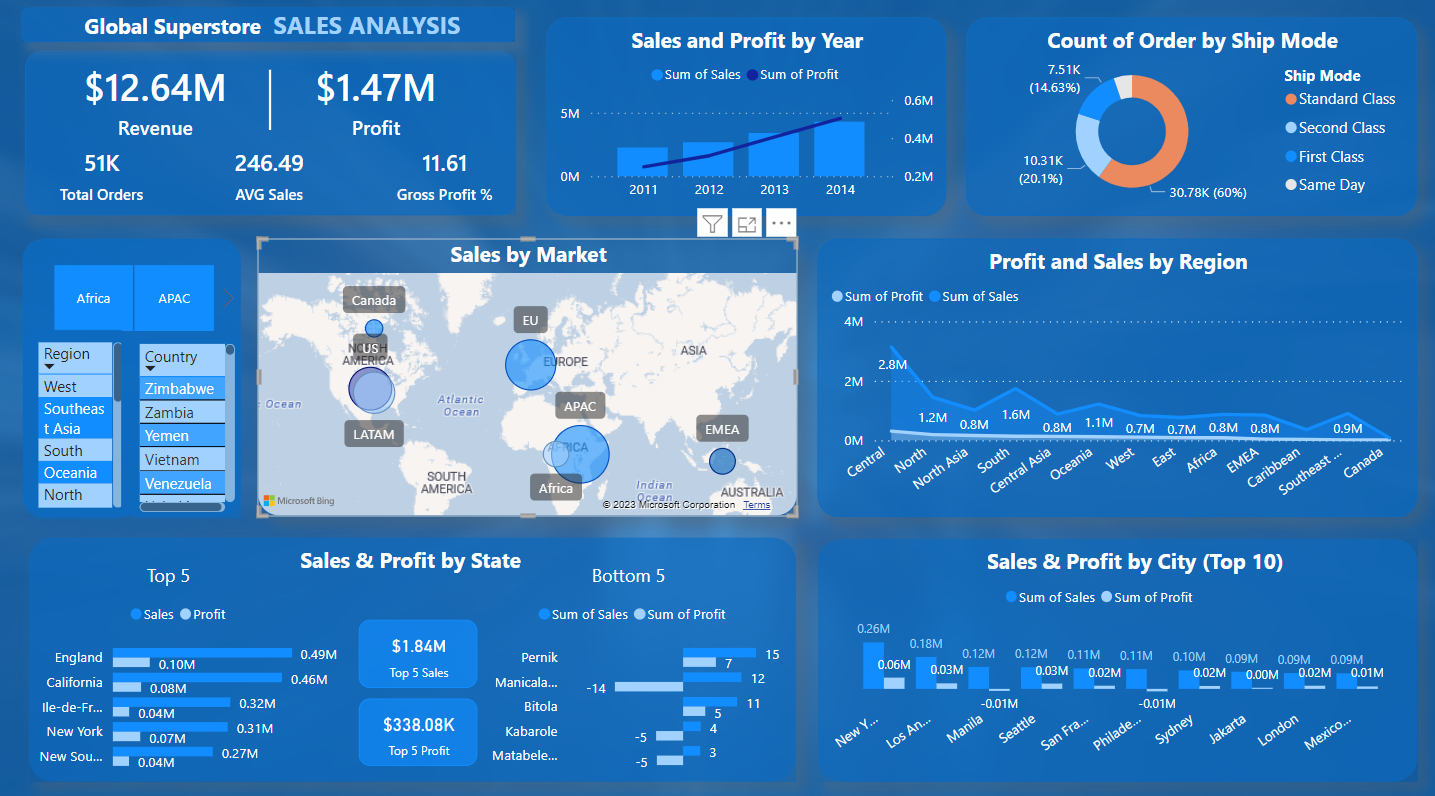

What the dashboard file says about the page in this screenshot:
{"tool":"powerbi","page":{"name":"Page 1","canvas":[1280,720],"ordinal":0},"visuals":[{"type":"shape","box":[0,0,1279.3,720.4],"z":0},{"type":"shape","box":[22.1,53.4,436.9,146.4],"z":1000},{"type":"shape","title":"Shape","box":[26,486.3,683.6,217.8],"z":2000},{"type":"shape","box":[19.8,220.8,194,247.5],"z":3000},{"type":"card","title":"Revenue","fields":{"Values":["Global Superstore - Orders.Total sales"]},"box":[37.2,50,203.3,93],"z":4000},{"type":"card","fields":{"Values":["Global Superstore - Orders.sum of profit"]},"box":[231.2,50,206.8,93],"z":5000},{"type":"card","fields":{"Values":["Global Superstore - Orders.Total Orders"]},"box":[22.1,126.7,135.9,72],"z":6000},{"type":"shape","box":[727.4,487.7,534.2,216.4],"z":7000},{"type":"card","fields":{"Values":["Global Superstore - Orders.Gross Profit %"]},"box":[332.3,126.7,126.7,72],"z":8000},{"type":"card","fields":{"Values":["Global Superstore - Orders.AVG Sales"]},"box":[170.8,126.7,138.3,72],"z":9000},{"type":"lineStackedColumnComboChart","title":"Sales and Profit by Year","fields":{"Category":["Global Superstore - Orders.Order Date.Variation.Date Hierarchy.Year"],"Y2":["Sum(Global Superstore - Orders.Profit)"],"Y":["Sum(Global Superstore - Orders.Sales)"]},"box":[486.3,23.3,356.2,176.7],"z":10000},{"type":"donutChart","title":"Count of Order by Ship Mode","fields":{"Category":["Global Superstore - Orders.Ship Mode"],"Y":["CountNonNull(Global Superstore - Orders.Order ID)"]},"box":[860.3,23.3,401.4,176.7],"z":11000},{"type":"slicer","fields":{"Values":["Global Superstore - Orders.Market"]},"box":[21.8,236.8,192,72.4],"z":12000},{"type":"stackedAreaChart","title":"Profit and Sales by Region","fields":{"Category":["Global Superstore - Orders.Region"],"Y":["Sum(Global Superstore - Orders.Profit)","Sum(Global Superstore - Orders.Sales)"]},"box":[727.4,220.5,534.2,247.9],"z":13000},{"type":"map","title":"Sales by Market","fields":{"Size":["Sum(Global Superstore - Orders.Sales)"],"Category":["Global Superstore - Orders.Market"]},"box":[228.9,220.8,481,247.5],"z":14000},{"type":"tableEx","fields":{"Values":["Global Superstore - Orders.Country"]},"box":[118.4,309.2,96.6,159.8],"z":15000},{"type":"tableEx","fields":{"Values":["Global Superstore - Orders.Region"]},"box":[21.8,301.1,96.6,167.8],"z":16000},{"type":"clusteredBarChart","fields":{"Category":["Global Superstore - Orders.State"],"Y":["Sum(Global Superstore - Orders.Sales)","Sum(Global Superstore - Orders.Profit)"]},"box":[16.1,535.6,289.7,169],"z":17000},{"type":"clusteredBarChart","fields":{"Y":["Sum(Global Superstore - Orders.Sales)","Sum(Global Superstore - Orders.Profit)"],"Category":["Global Superstore - Orders.State"]},"box":[419.2,535.6,290.4,168.5],"z":18000},{"type":"clusteredColumnChart","fields":{"Category":["Global Superstore - Orders.City"],"Y":["Sum(Global Superstore - Orders.Sales)","Sum(Global Superstore - Orders.Profit)"]},"box":[709.6,519.2,541.1,169.9],"z":19000},{"type":"textbox","box":[0,504.3,299.8,31.4],"z":20000},{"type":"textbox","box":[409.6,504.1,300,31.5],"z":21000},{"type":"textbox","box":[859.8,489.2,300.9,46.5],"z":22000},{"type":"shape","box":[224.3,69.7,31.4,53.4],"z":23000},{"type":"card","fields":{"Values":["Global Superstore - Orders.Top 5 Sales"]},"box":[319.5,559.8,105.7,60.9],"z":24000},{"type":"card","fields":{"Values":["Global Superstore - Orders.Top 5 Profit"]},"box":[319.5,629.9,105.7,59.8],"z":25000},{"type":"shape","box":[19.2,14.4,439.1,31.2],"z":25500},{"type":"textbox","box":[218.5,488.9,300,46.9],"z":26000},{"type":"textbox","box":[69.7,10.5,384.6,40.7],"z":27000}]}

Visuals, with their boxes in screenshot pixels (x1, y1, x2, y2), scaled from the page's 1280x720 canvas onto the 1435x796 screenshot:
shape: <region>0, 0, 1434, 795</region>
shape: <region>25, 59, 515, 221</region>
"Shape" shape: <region>29, 538, 796, 778</region>
shape: <region>22, 244, 240, 518</region>
"Revenue" card: <region>42, 55, 270, 158</region>
card - Global Superstore - Orders.sum of profit: <region>259, 55, 491, 158</region>
card - Global Superstore - Orders.Total Orders: <region>25, 140, 177, 220</region>
shape: <region>815, 539, 1414, 778</region>
card - Global Superstore - Orders.Gross Profit %: <region>373, 140, 515, 220</region>
card - Global Superstore - Orders.AVG Sales: <region>191, 140, 347, 220</region>
"Sales and Profit by Year" lineStackedColumnComboChart: <region>545, 26, 945, 221</region>
"Count of Order by Ship Mode" donutChart: <region>964, 26, 1414, 221</region>
slicer - Global Superstore - Orders.Market: <region>24, 262, 240, 342</region>
"Profit and Sales by Region" stackedAreaChart: <region>815, 244, 1414, 518</region>
"Sales by Market" map: <region>257, 244, 796, 518</region>
tableEx - Global Superstore - Orders.Country: <region>133, 342, 241, 519</region>
tableEx - Global Superstore - Orders.Region: <region>24, 333, 133, 518</region>
clusteredBarChart - Global Superstore - Orders.State x Sum(Global Superstore - Orders.Sales): <region>18, 592, 343, 779</region>
clusteredBarChart - Sum(Global Superstore - Orders.Sales) x Sum(Global Superstore - Orders.Profit): <region>470, 592, 796, 778</region>
clusteredColumnChart - Global Superstore - Orders.City x Sum(Global Superstore - Orders.Sales): <region>796, 574, 1402, 762</region>
textbox: <region>0, 558, 336, 592</region>
textbox: <region>459, 557, 796, 592</region>
textbox: <region>964, 541, 1301, 592</region>
shape: <region>251, 77, 287, 136</region>
card - Global Superstore - Orders.Top 5 Sales: <region>358, 619, 477, 686</region>
card - Global Superstore - Orders.Top 5 Profit: <region>358, 696, 477, 763</region>
shape: <region>22, 16, 514, 50</region>
textbox: <region>245, 541, 581, 592</region>
textbox: <region>78, 12, 509, 57</region>
